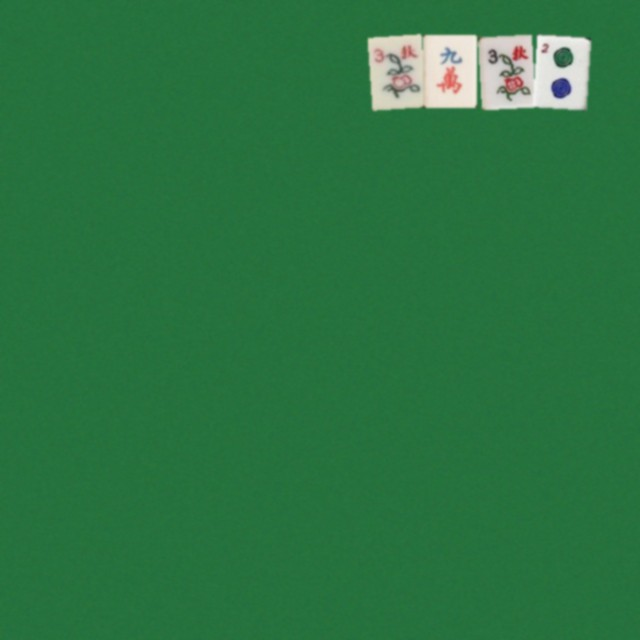tile: (367, 34, 421, 107), (422, 34, 476, 107), (477, 34, 531, 107), (532, 34, 586, 107)
